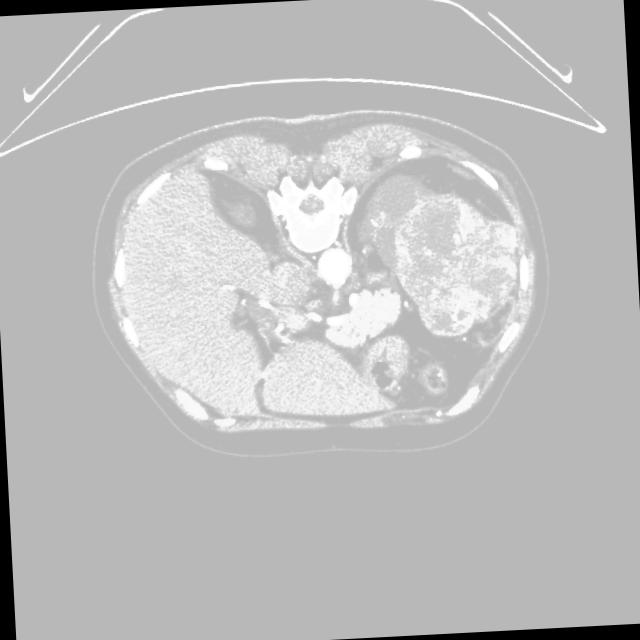TUMOR: (306, 178, 536, 371)
